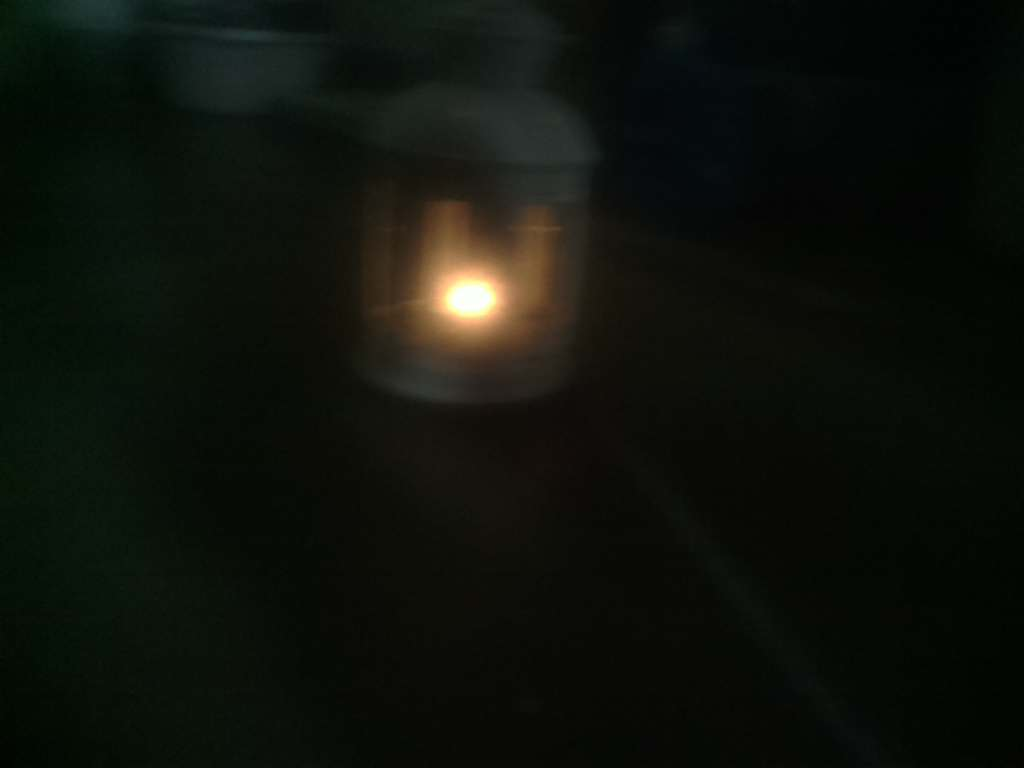fire: (404, 254, 525, 346)
